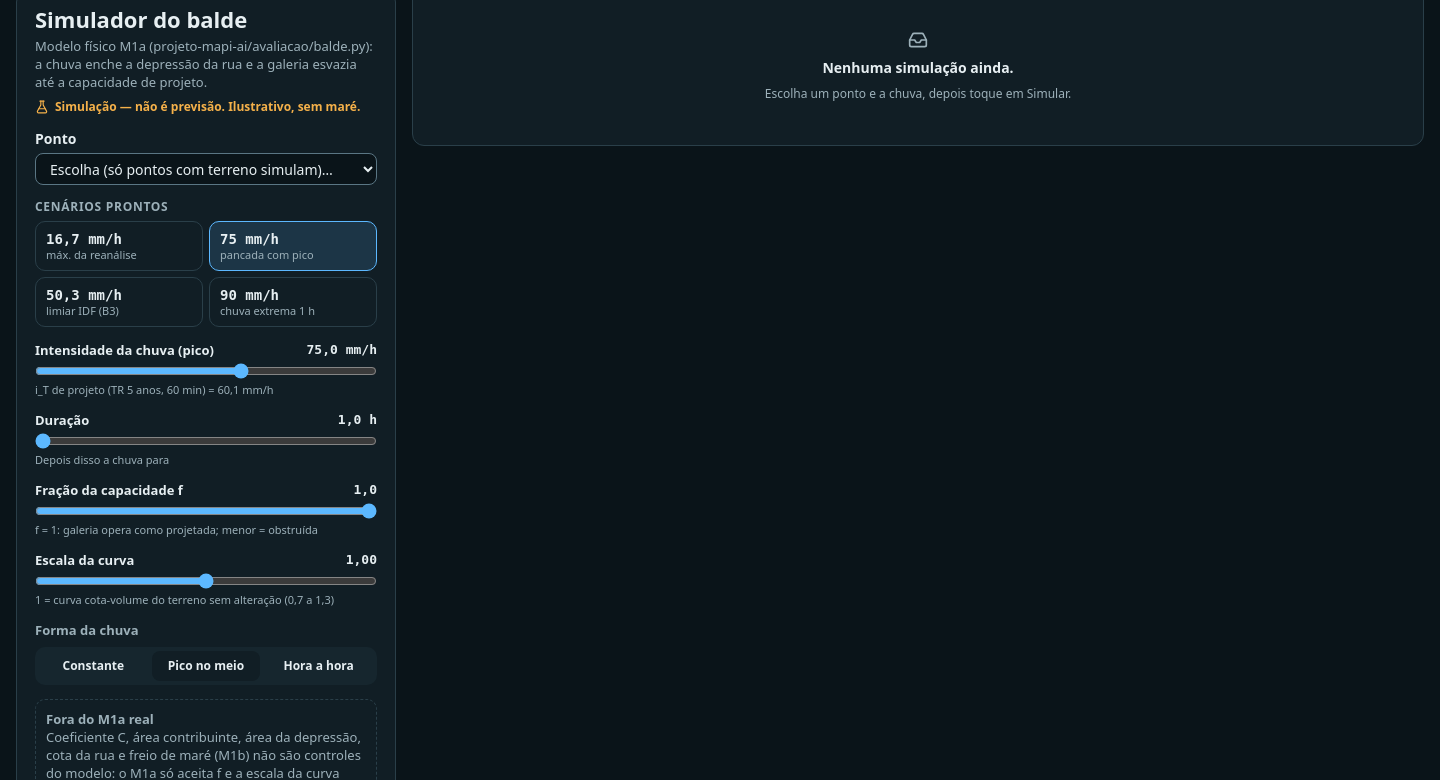
Test case: SimulatorPage › modo hora a hora aceita vírgula decimal e valida faixas antes de enviar
Step 1. Select "Sintético: ponto de teste" in the dropdown labelled "Ponto" → [206, 169], box [35,153,377,185]
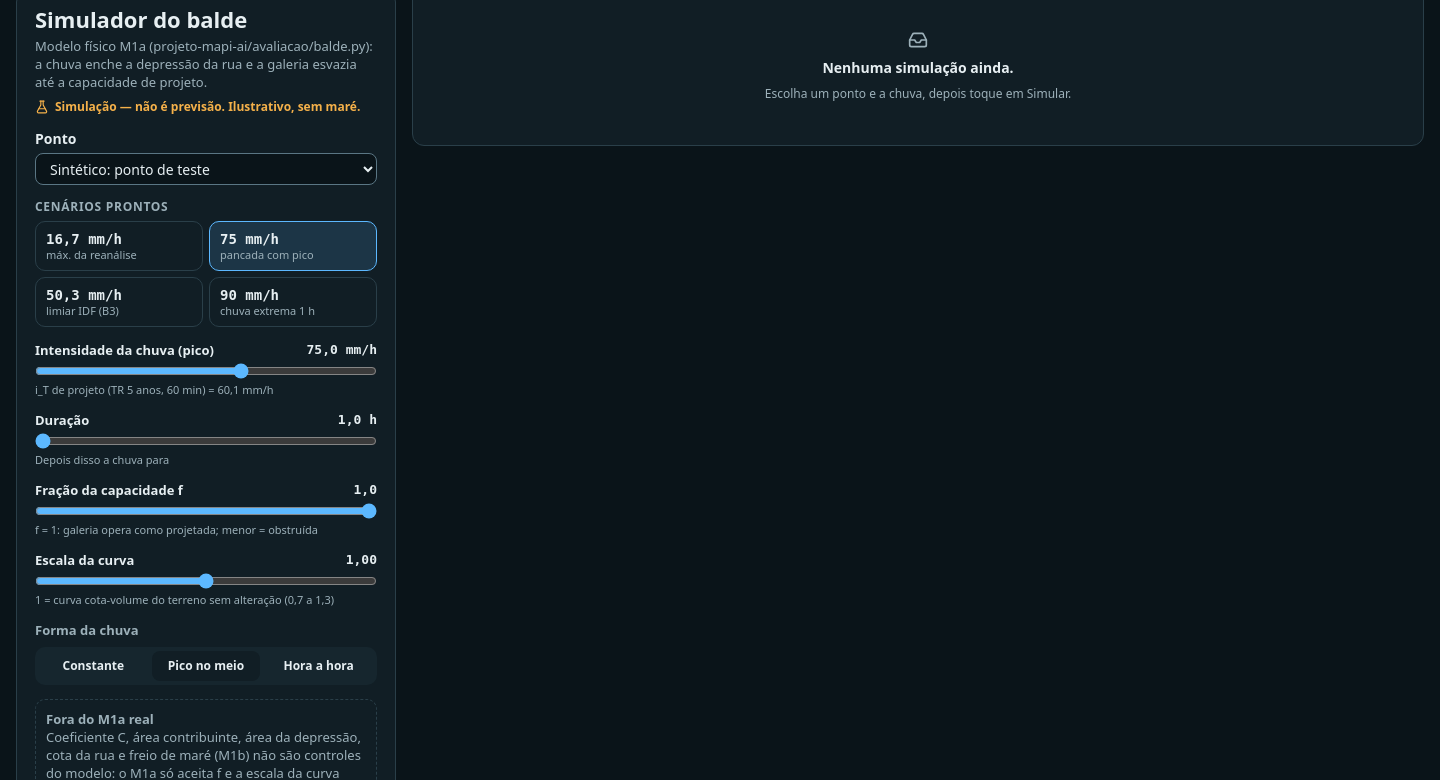
Step 2. Click the radio button labelled "Hora a hora" → [319, 666], box [264,650,373,680]
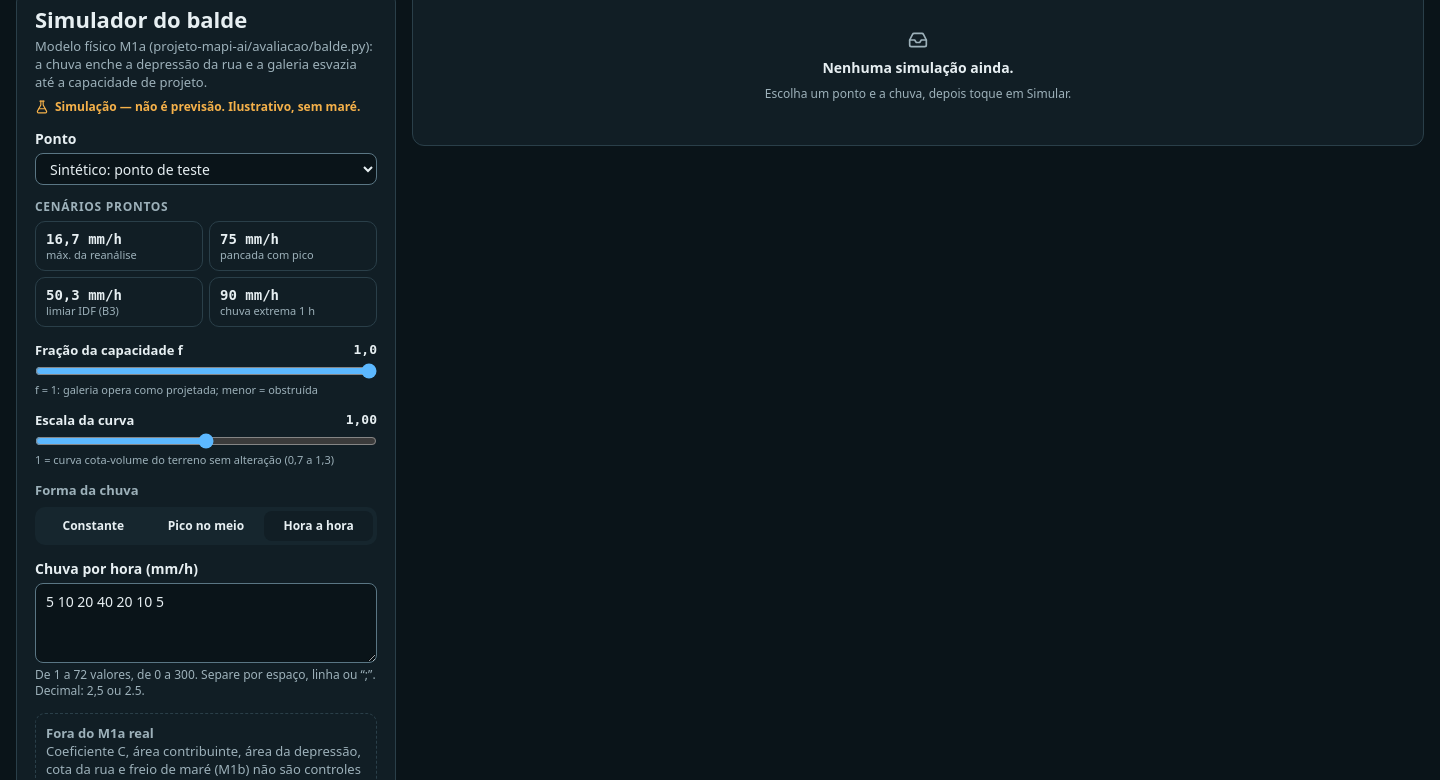
Step 3. Replace the text in the text box labelled "Chuva por hora (mm/h)" with "5 301" → [206, 622], box [35,582,377,662]
(page scrolled)
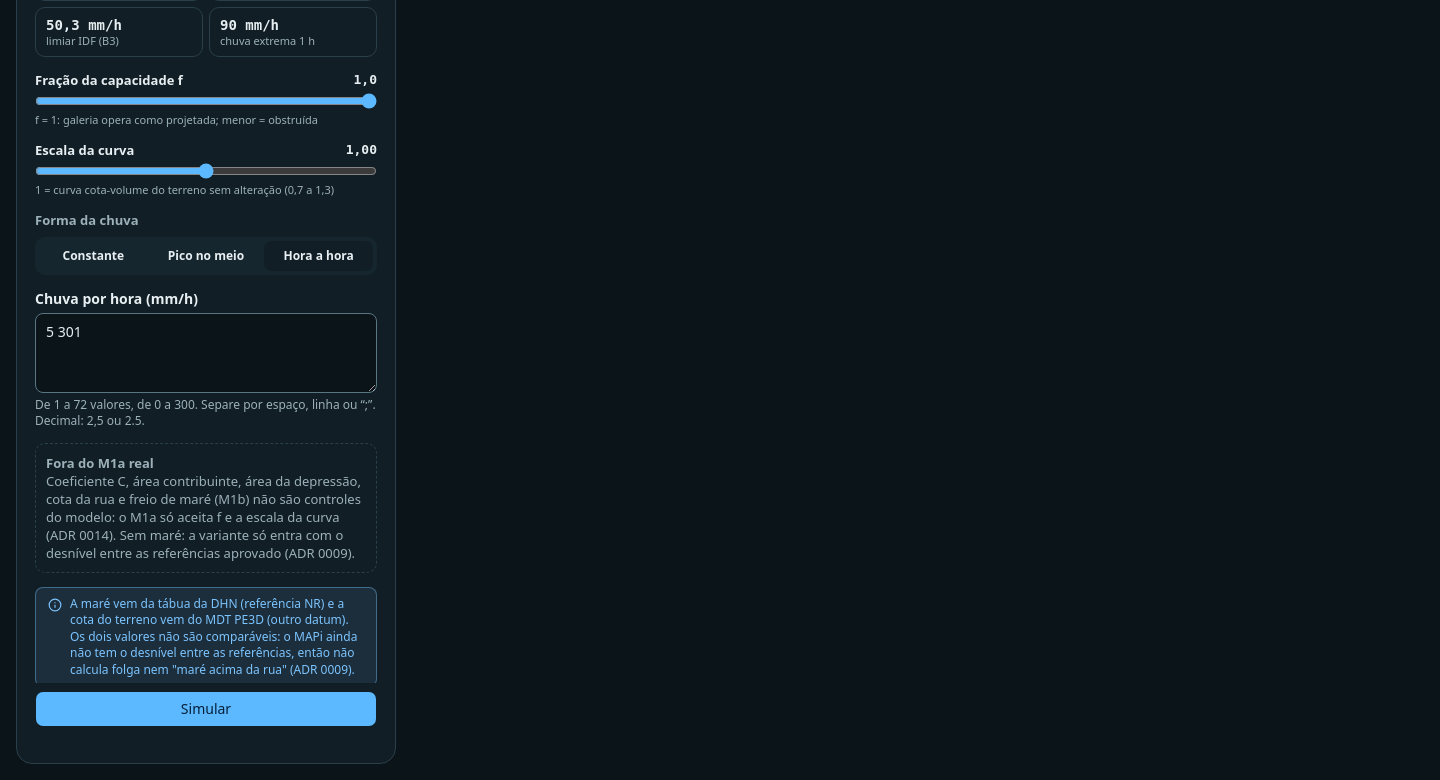
Step 4. Click the button "Simular" → [206, 709], box [35,691,377,727]
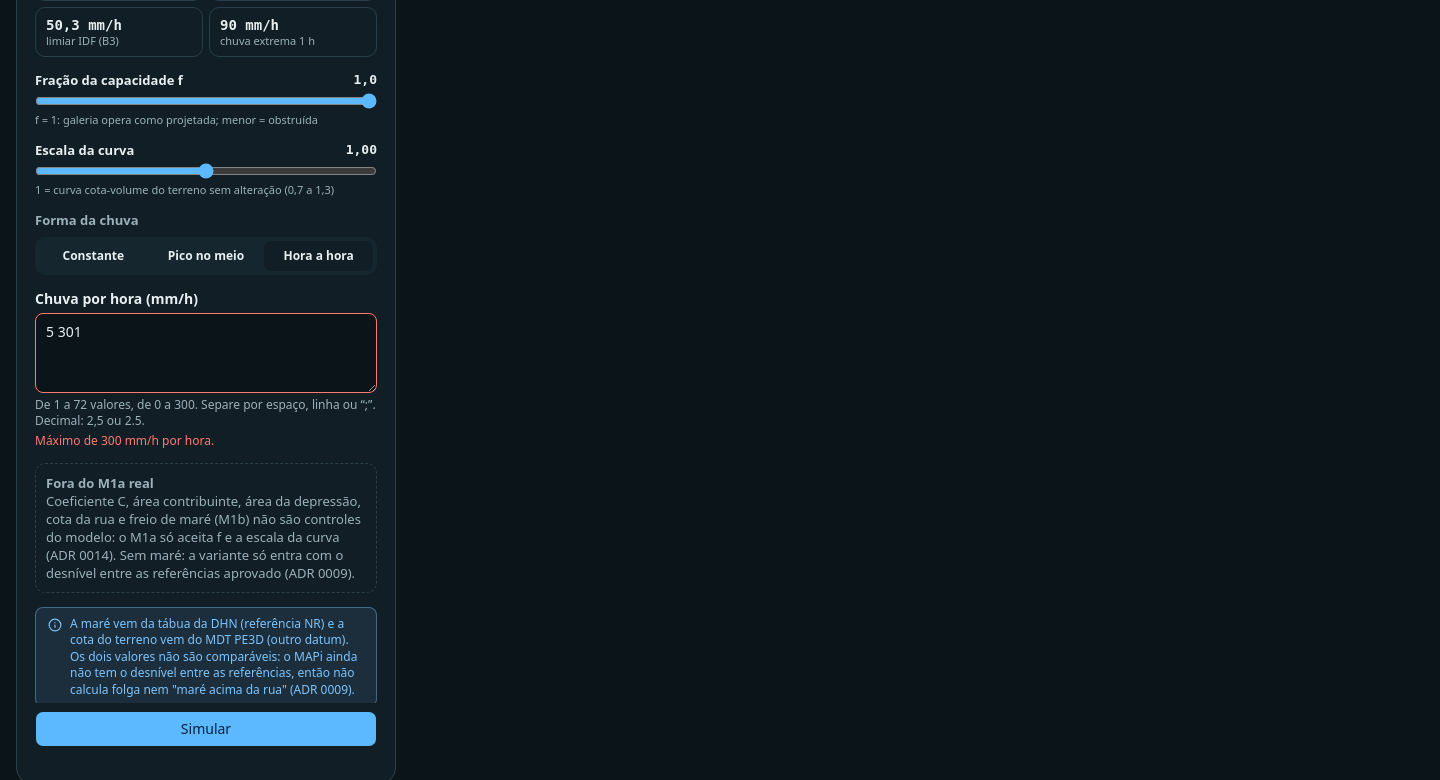
Now the text "Máximo de 300 mm/h por hora." is shown, box [35,432,214,448]
